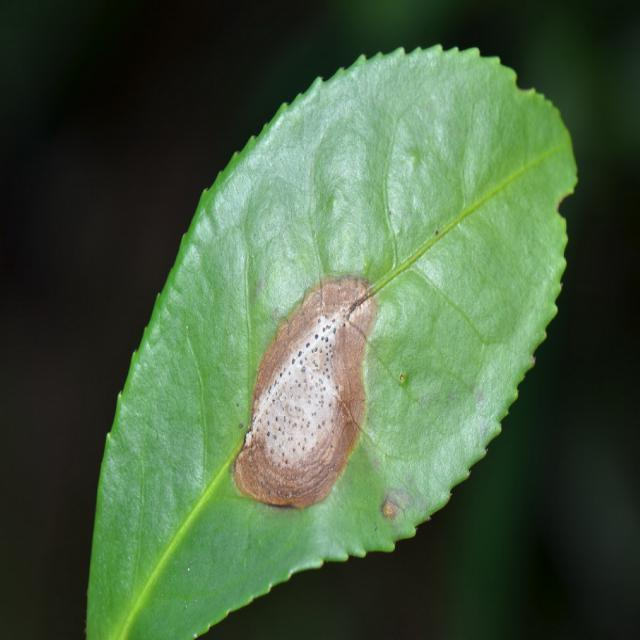Tea cloud leaf blight: (236, 276, 375, 509)
